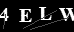4: (1, 6, 9, 22)
E: (17, 8, 33, 23)
L: (37, 6, 53, 21)
W: (57, 7, 74, 22)
